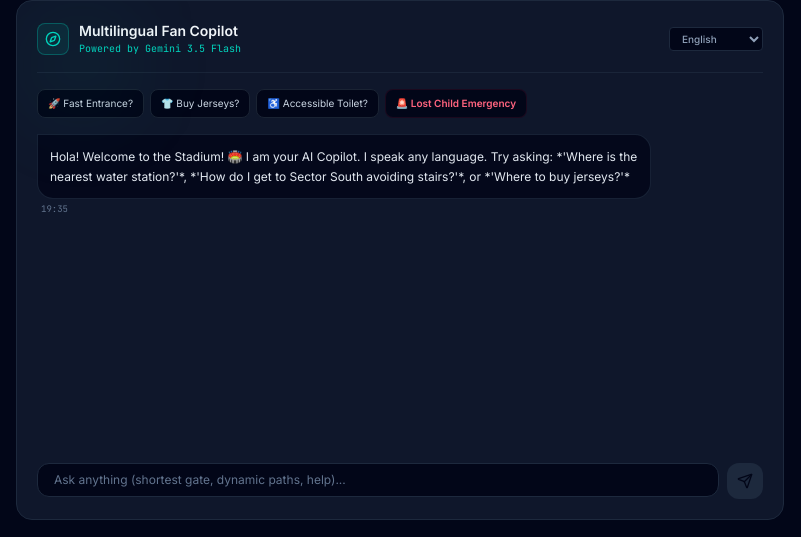
Test case: FanApp Portal › tests AI Chat client with mock server response and offline mode
This screenshot has width=801, height=537.
In the field with placeholder "Ask anything (shortest gate, dynamic paths, help)...": point(378, 480) left=37, top=463, right=719, bottom=497, type "Where is recycling?"
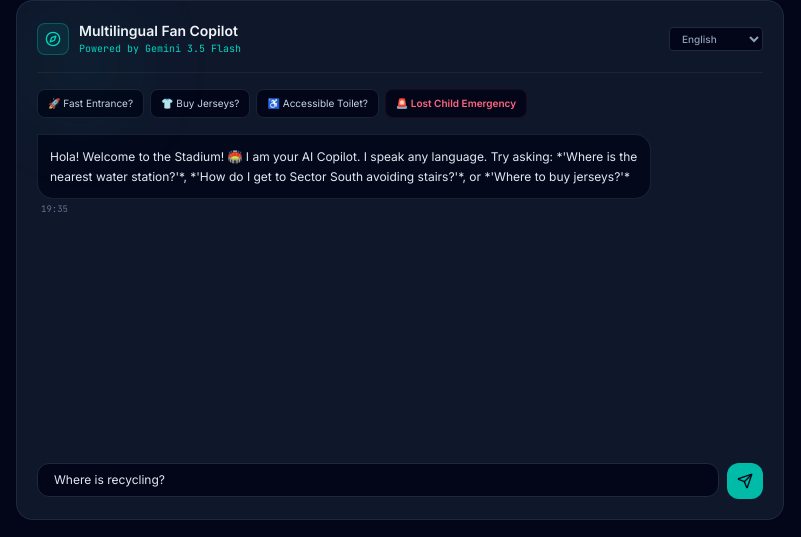
Click the button with class "lucide-send": point(745, 481) left=727, top=463, right=763, bottom=499
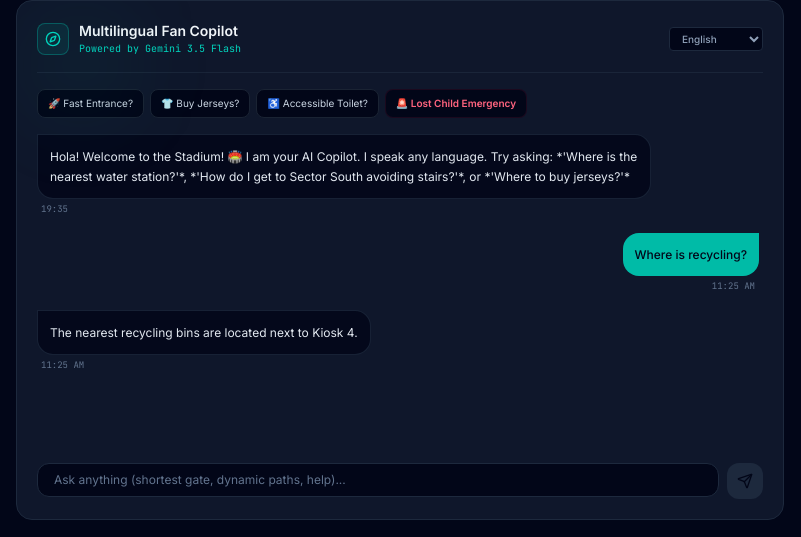
expect the text "The nearest recycling bins are located next to Kiosk 4." is shown: met, box left=50, top=324, right=358, bottom=340
